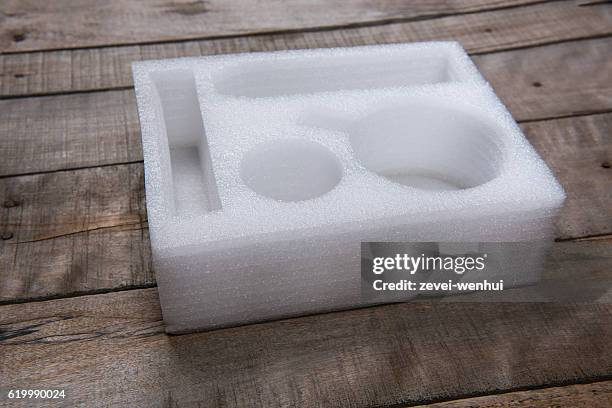Boxes: (134, 42, 563, 332)
